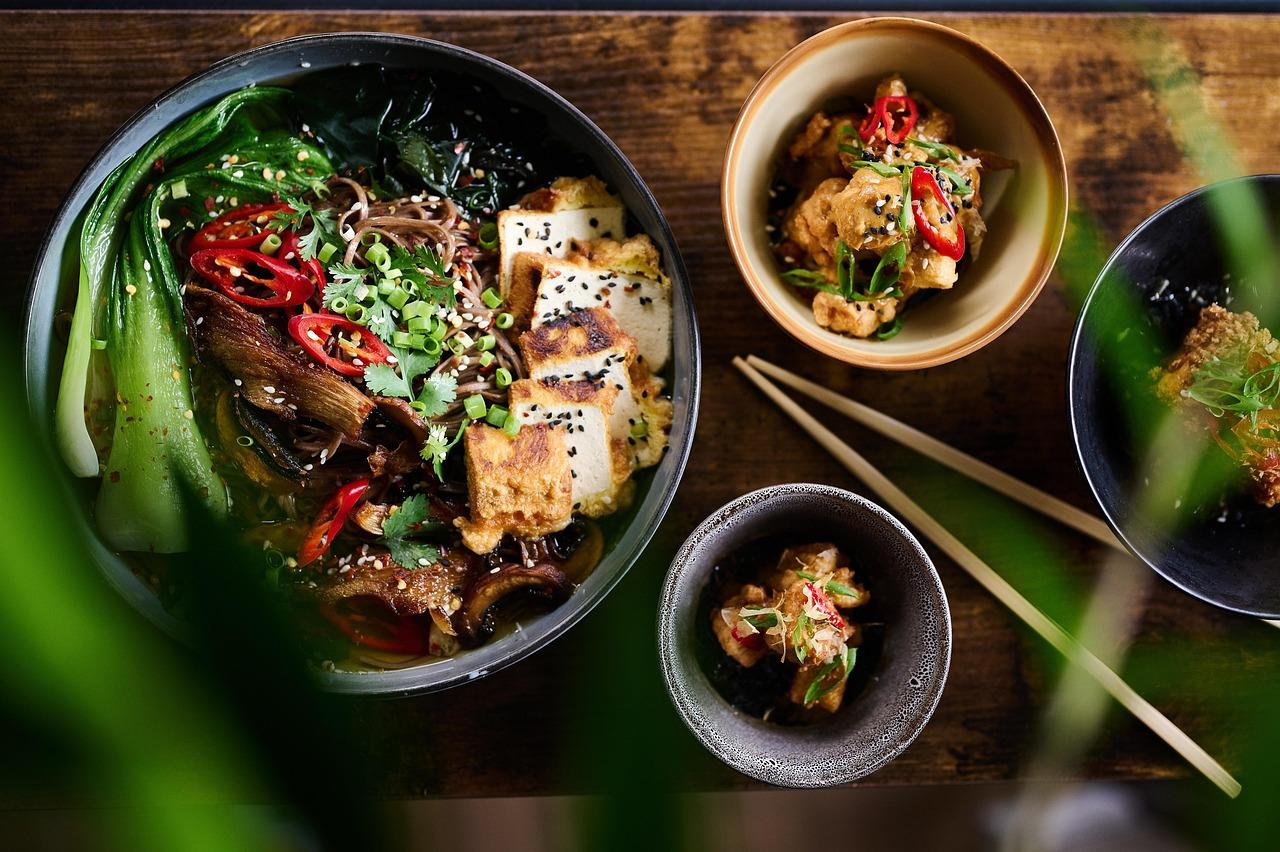Braised Crucian Carp: (18, 31, 676, 703), (714, 17, 1054, 374), (655, 484, 953, 789)
